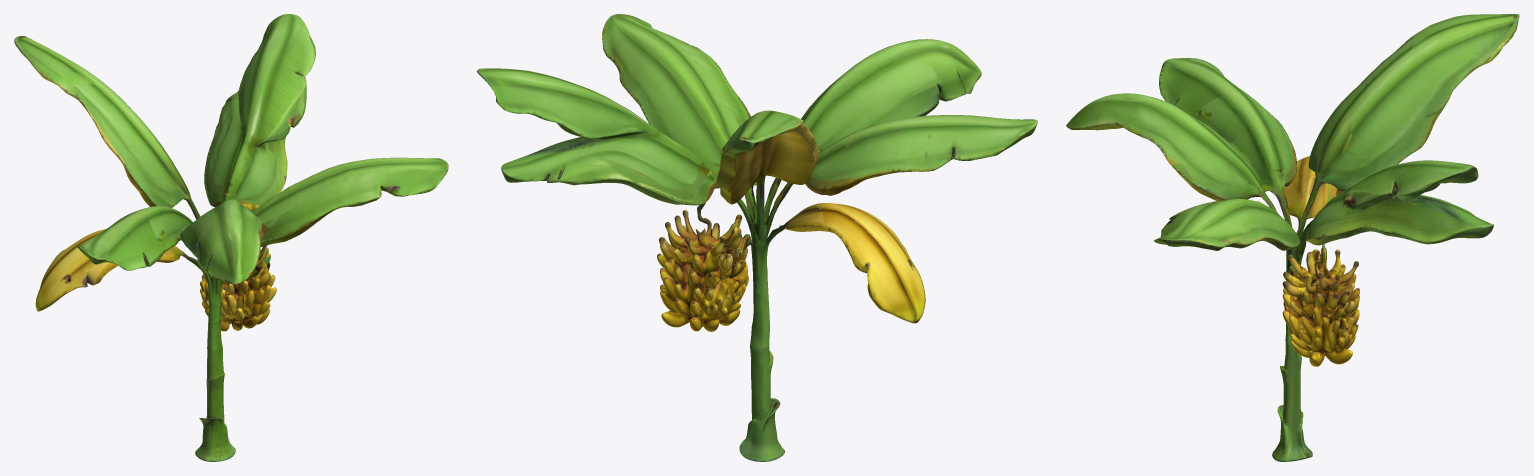
File: _0615163147_texture.fbx
3 renders of one model, left to right at view 1: azimuth 30°, elevation 25°; view 2: azimuth 150°, elevation 25°; view 3: azimuth 270°, elevation 25°, orthographic. The views are drawn at different scales.
Visible parts, largest first — view 1: Mesh_0; view 2: Mesh_0; view 3: Mesh_0.
Boxes of the visible parts, x1,y1,x2,y2 form: Mesh_0: (14,14,448,461); Mesh_0: (477,14,1037,461); Mesh_0: (1066,14,1519,461).
Size of the model in its own units: 197 by 191 by 200.
Materials: 1 (1 with a texture image).
